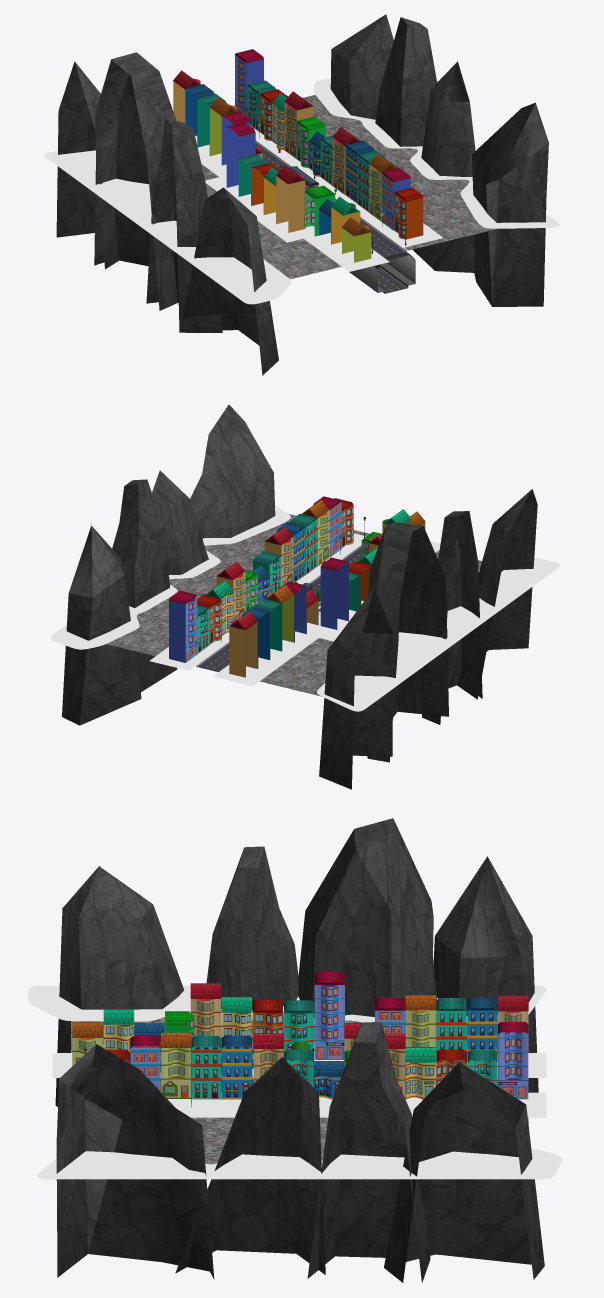
File: City_17.fbx
3 views of the same model, one above another, from view 1: azimuth 30°, elevation 25°; view 2: azimuth 150°, elevation 25°; view 3: azimuth 270°, elevation 25° (orthographic). The views are drawn at different scales.
Visible parts, largest first — view 1: City_17; view 2: City_17; view 3: City_17.
Part boxes in pixels (left/top/right/bottom): City_17: left=44, top=14, right=559, bottom=375; City_17: left=50, top=404, right=559, bottom=789; City_17: left=28, top=818, right=561, bottom=1282.
Size of the model in its own units: 22617 by 13384 by 25170.
Materials: 12 (12 with a texture image).
